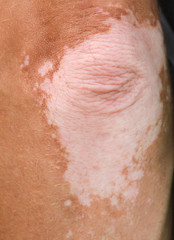vitiligo: (21, 10, 166, 222)
